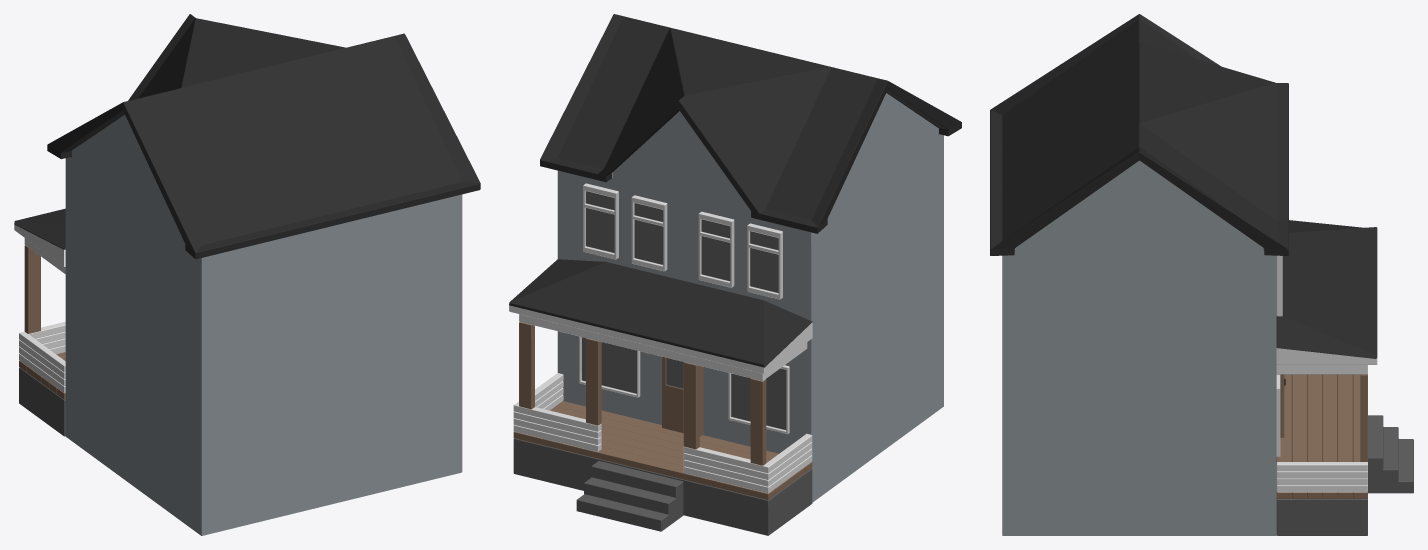
Rendered from housev3.fbx.
3 views of the same model, side by side, from view 1: azimuth 30°, elevation 25°; view 2: azimuth 150°, elevation 25°; view 3: azimuth 270°, elevation 25° (orthographic). The views are drawn at different scales.
Visible parts, largest first — view 1: House_WV.003; view 2: House_WV.003; view 3: House_WV.003.
Part boxes in pixels (bbox=[...]): House_WV.003: bbox=[14, 14, 480, 535]; House_WV.003: bbox=[509, 14, 961, 535]; House_WV.003: bbox=[990, 14, 1413, 535].
Size of the model in its own units: 1089 by 1410 by 1390.
